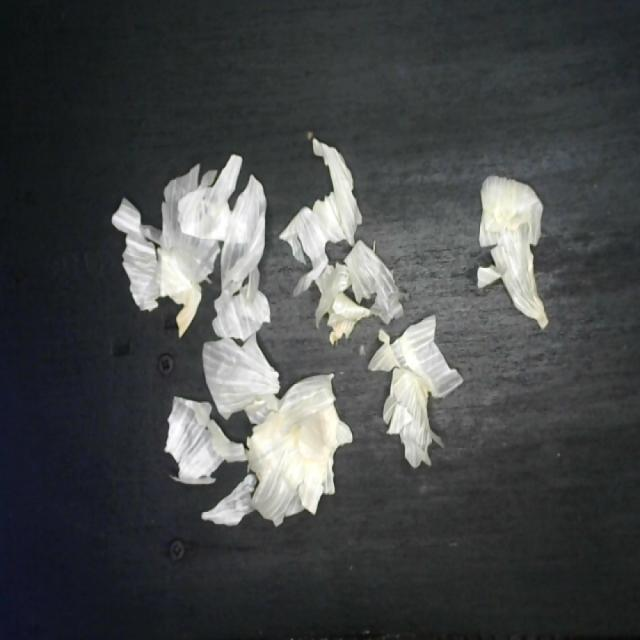biodegradable: (106, 135, 461, 531)
